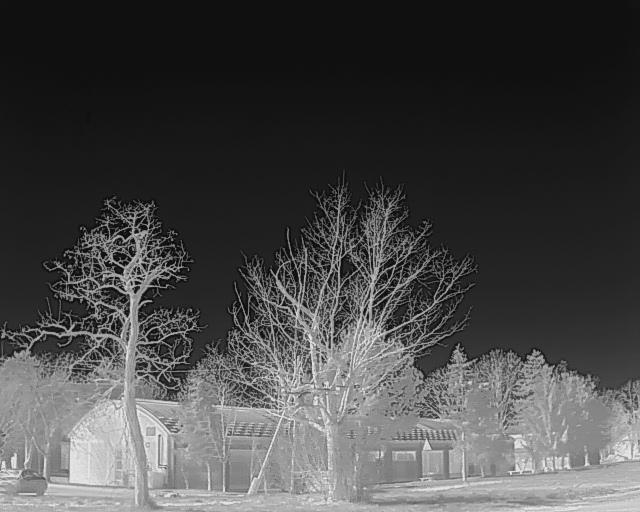drone: (288, 379, 344, 414)
